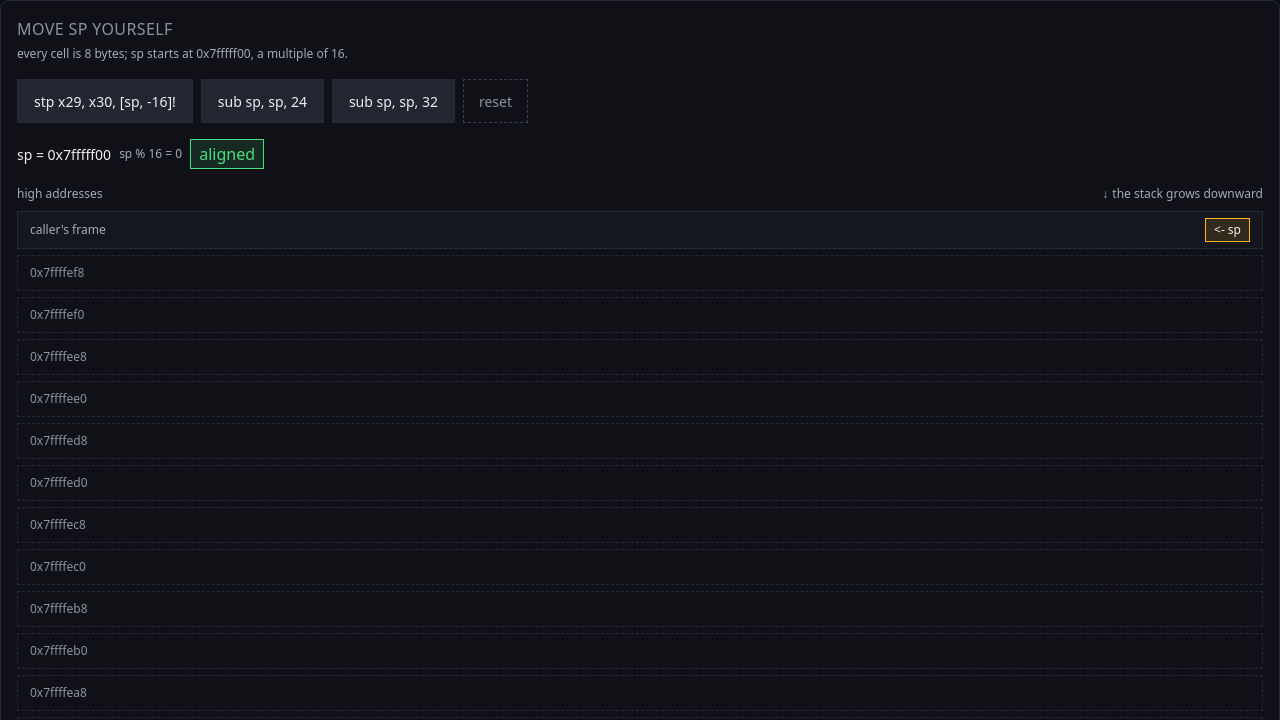
Test: StackAlignment › sub sp, sp, 24 lands on an odd multiple of 8 and flips the verdict
What coordinates should you click on to do the following:
click the button "sub sp, sp, 24"
I would click on:
 (262, 101)
Its box is [201, 79, 324, 123].
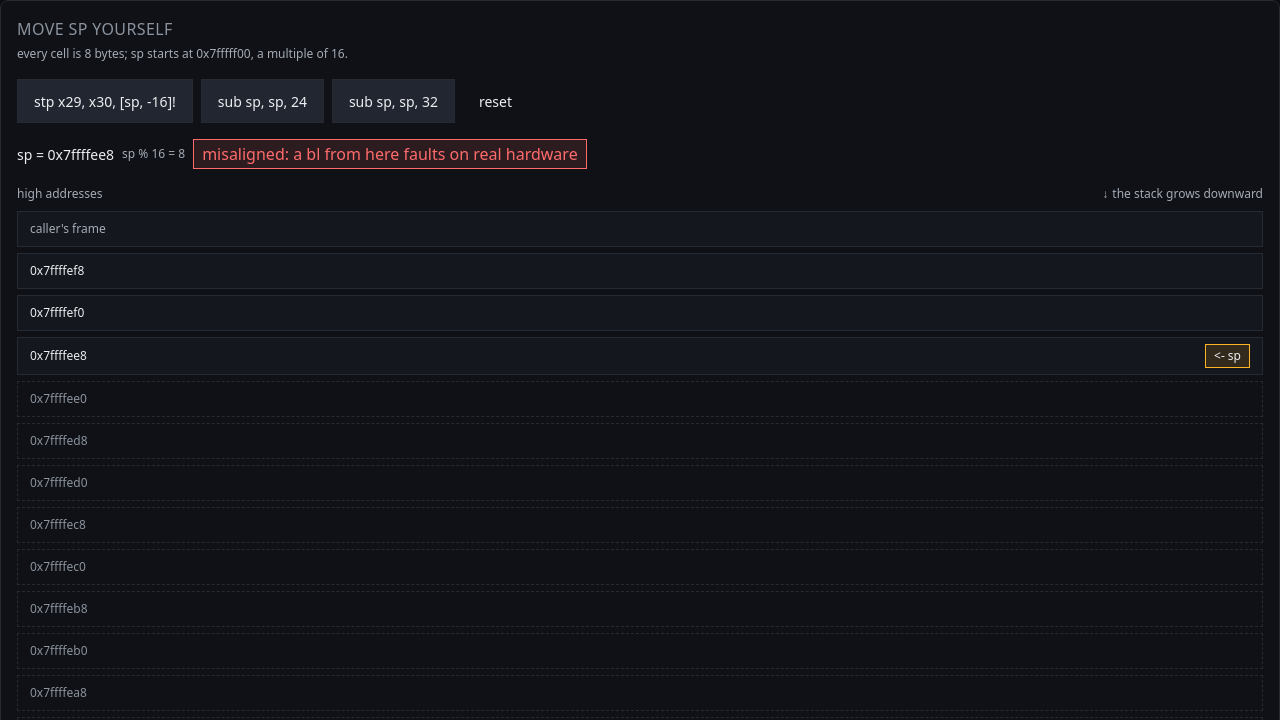
Now the text "sp = 0x7ffffee8" is shown, box [17, 144, 114, 164]
Now the text "sp % 16 = 8" is shown, box [122, 145, 185, 163]
Now the text "misaligned: a bl from here faults on real hardware" is shown, box [193, 139, 587, 169]
